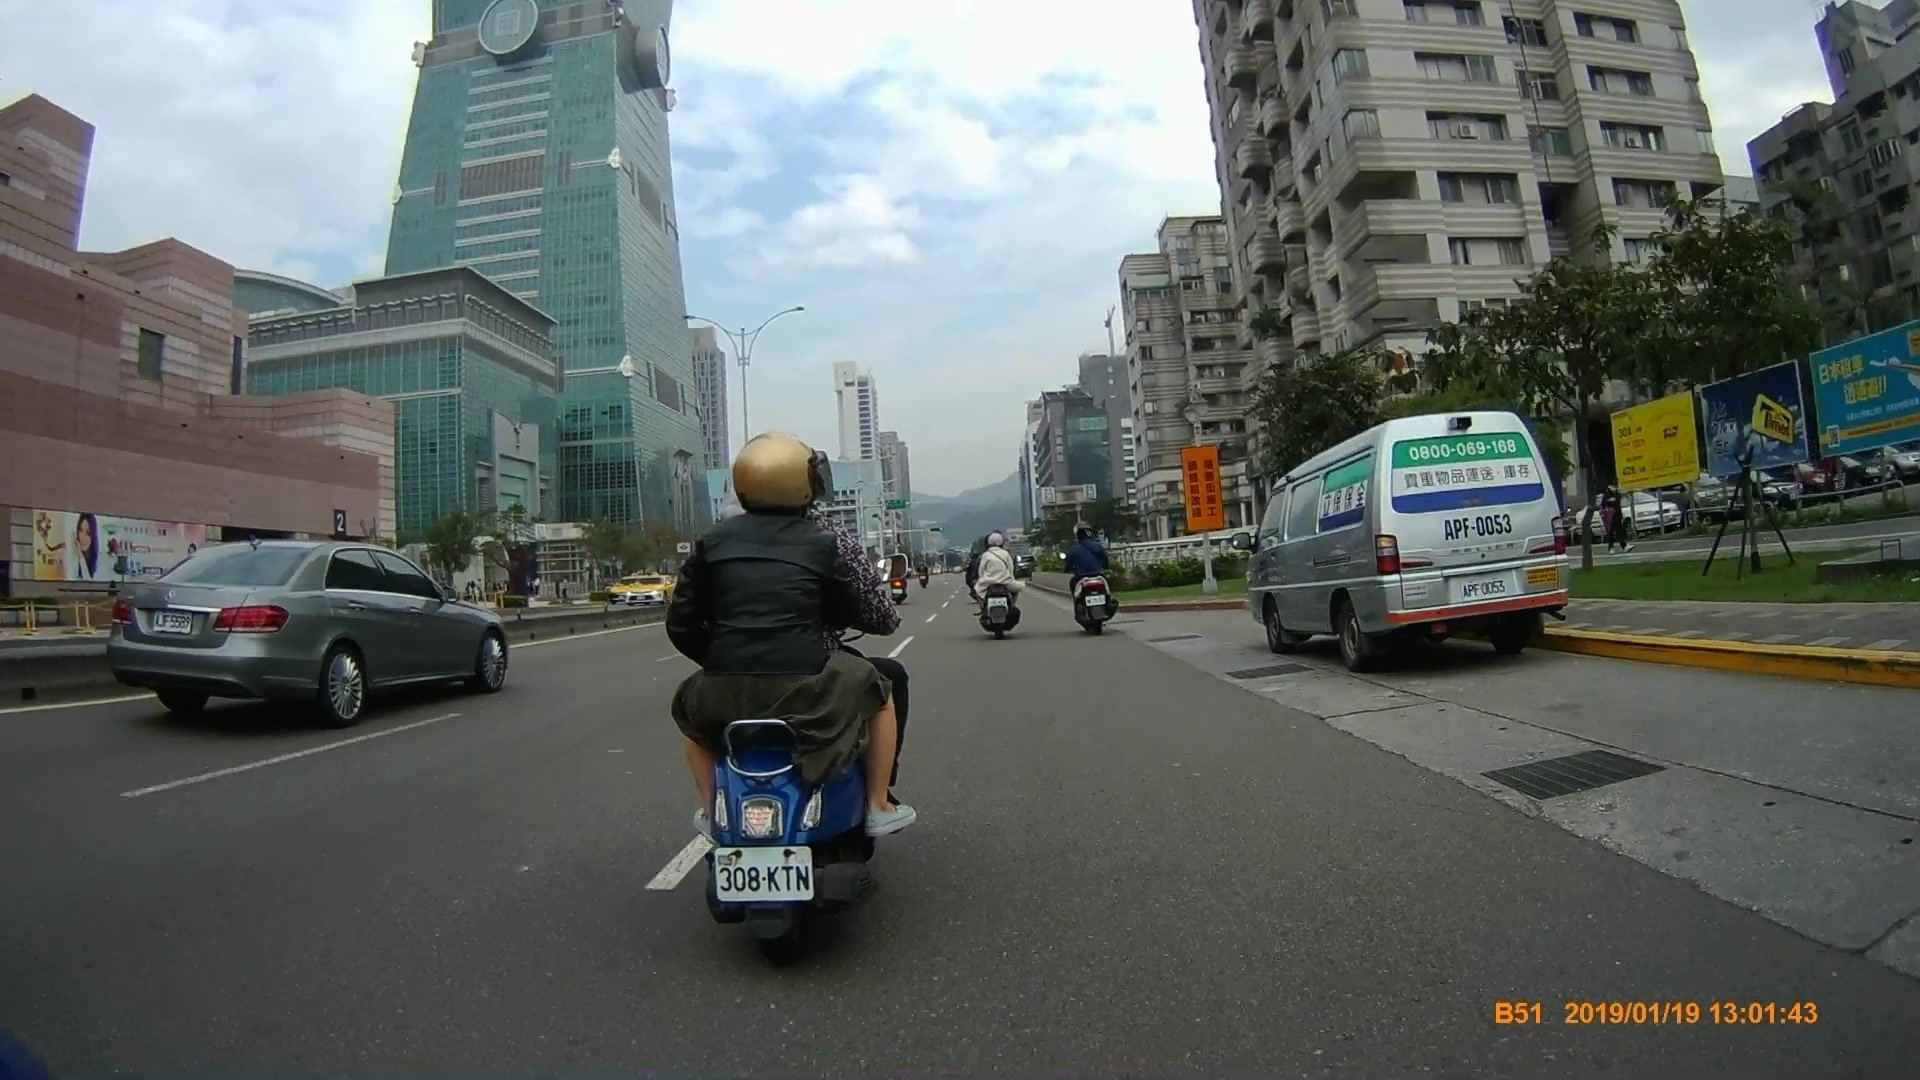License_plate: (712, 846, 816, 902), (1455, 572, 1518, 602)
